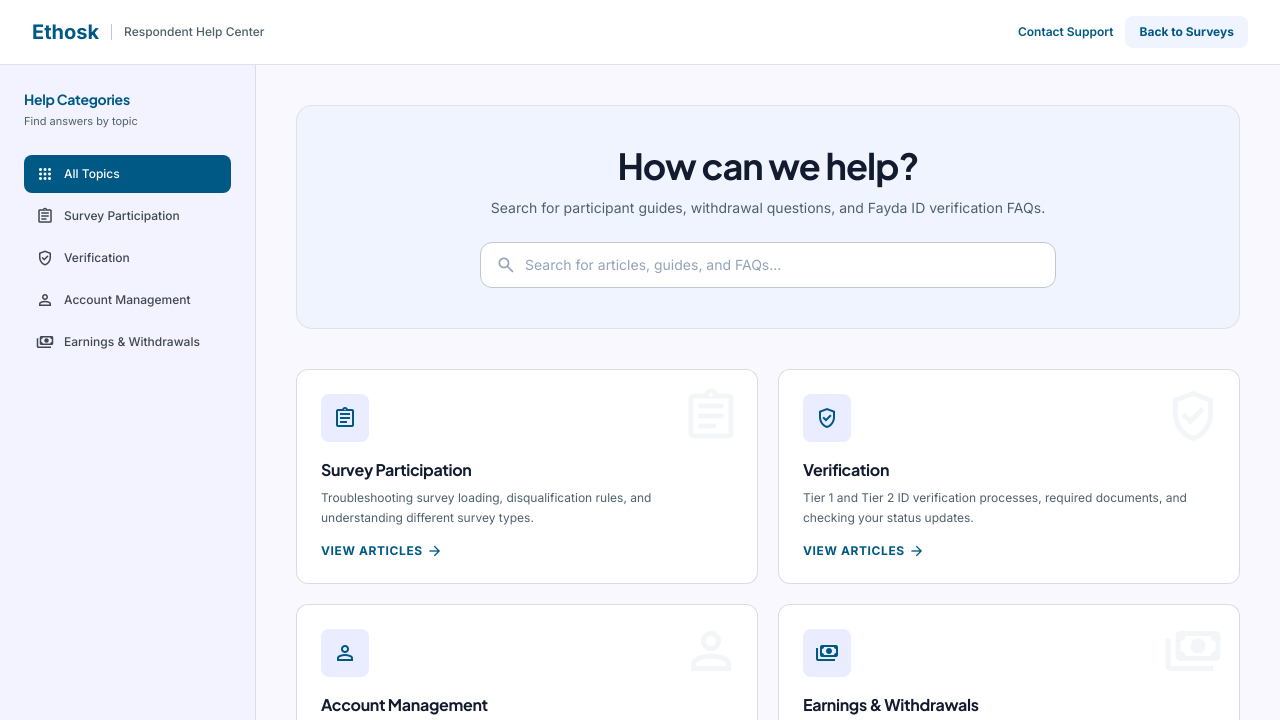
Test case: Ethosk - Respondent Help Center: Landing (Stitch Screen 6fd6d3072b46471196dc79ef2c15e4a4) › filters topics dynamically when typing in search input
In the field with placeholder "Search for articles, guides, and FAQs...": (768, 265) [480, 242, 1056, 288], type "password"
(page scrolled)
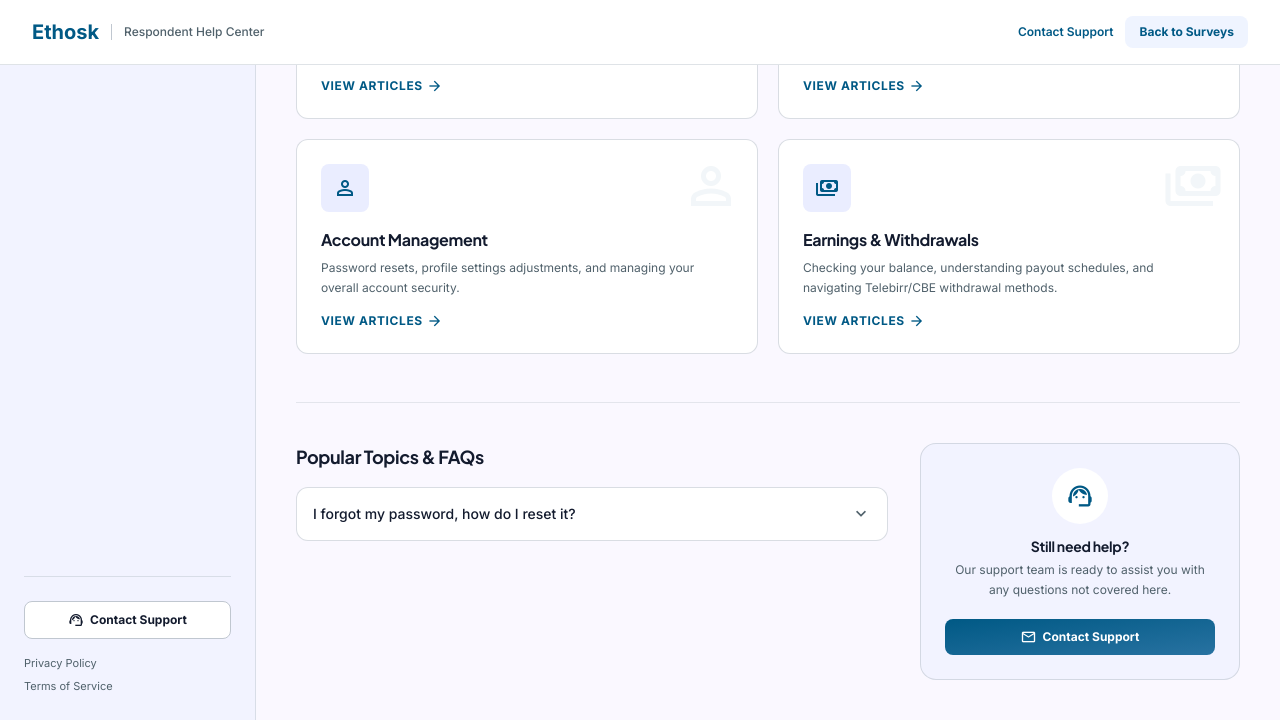
expect the text "I forgot my password, how do I reset it?" is shown: met, box [313, 504, 576, 524]
